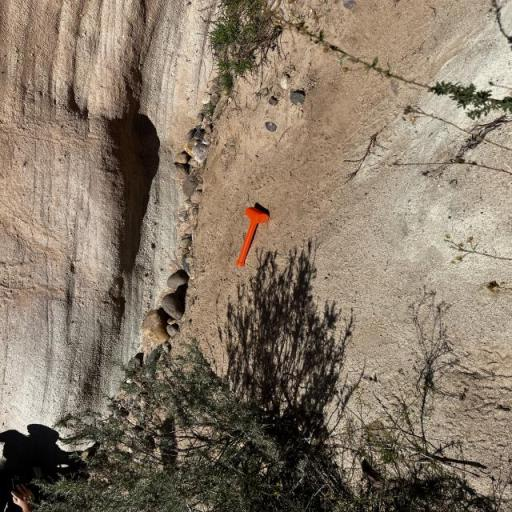mallet: (235, 206, 270, 269)
